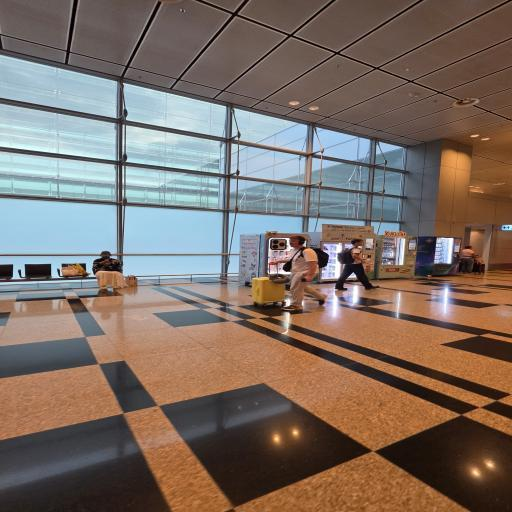person_right: (332, 232, 382, 292)
person_with_luggage_left: (247, 232, 332, 312)
